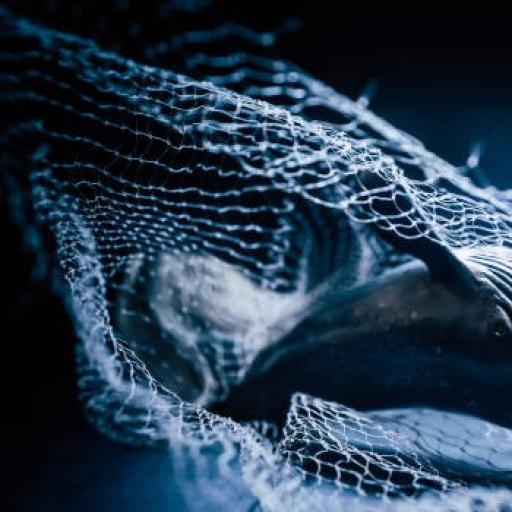net: (4, 6, 512, 510)
